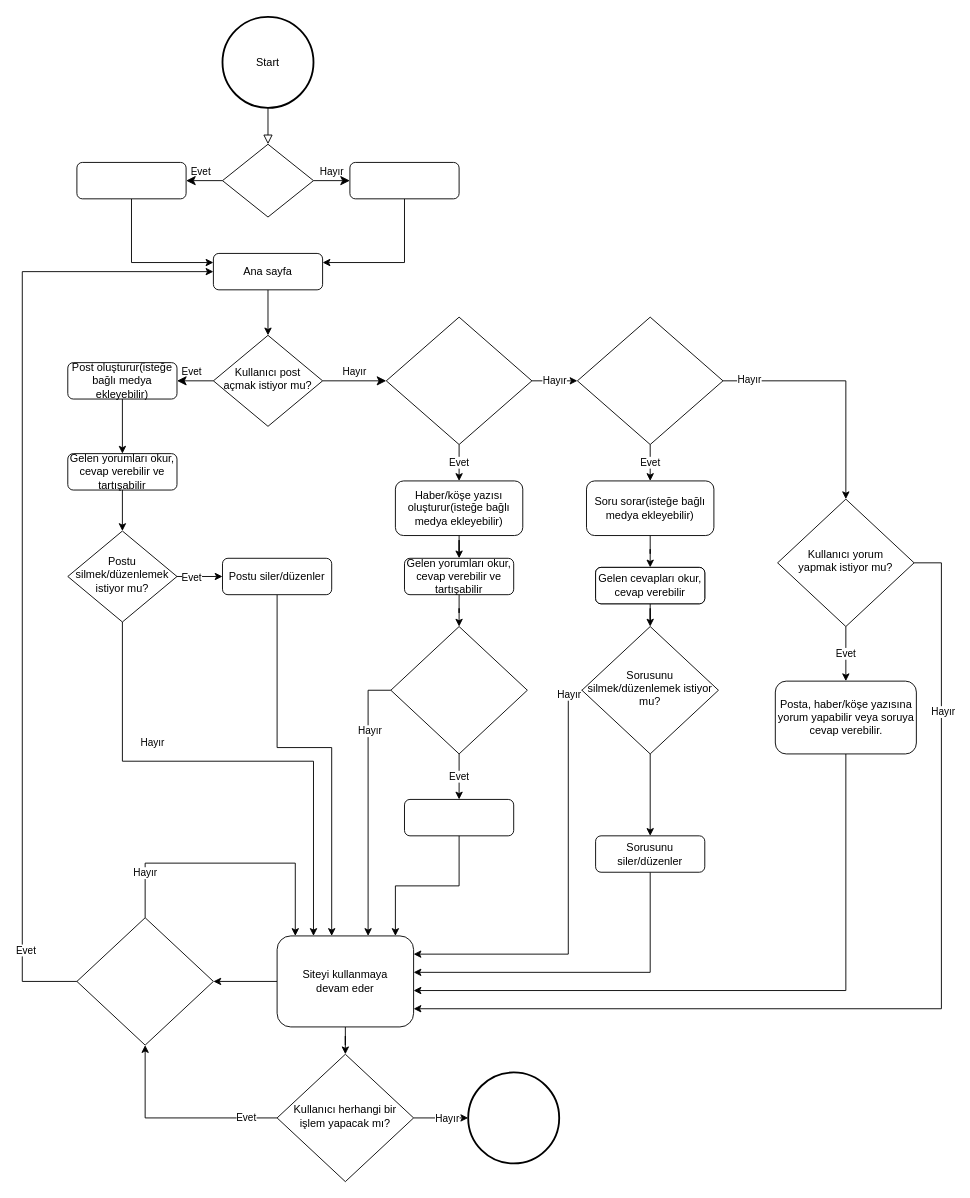
Image size: 970x1198. Some labels were removed from this diagram. Here are the shapes that lost their labels. From the top down, the centre of each, then its label:
pixel 131 180: Giriş yap
pixel 267 180: Üye mi?
pixel 404 180: Üye ol
pixel 458 380: Kullanıcı haber/köşe yazısı yazmak istiyor mu?
pixel 649 380: Kullanıcı soru sormak istiyor mu?
pixel 458 690: Haber/köşe yazısını silmek/düzenlemek istiyor mu?
pixel 459 817: Haber/köşe yazısını siler/düzenler
pixel 144 981: Kullanıcı ana sayfaya dönecek mi?
pixel 513 1117: End
